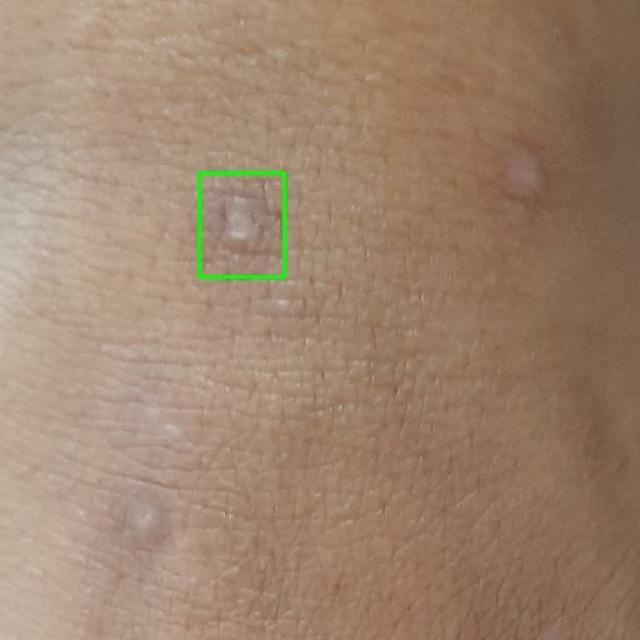Scabies: (199, 172, 284, 276)
